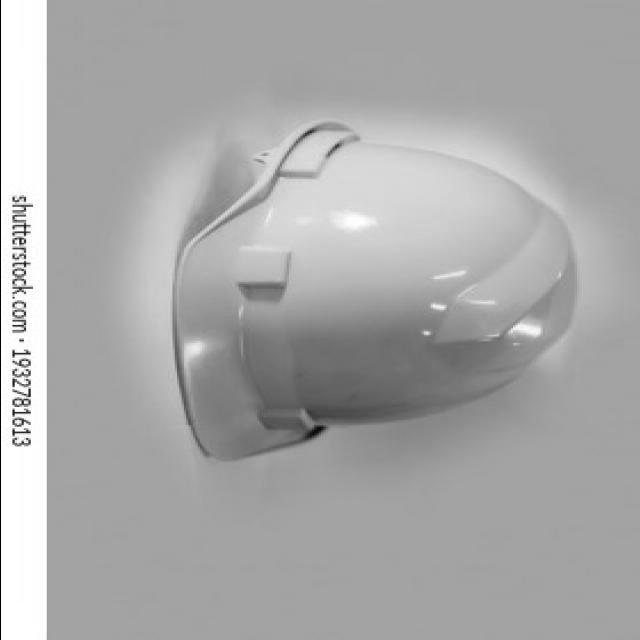construction helmet: (174, 118, 576, 464)
